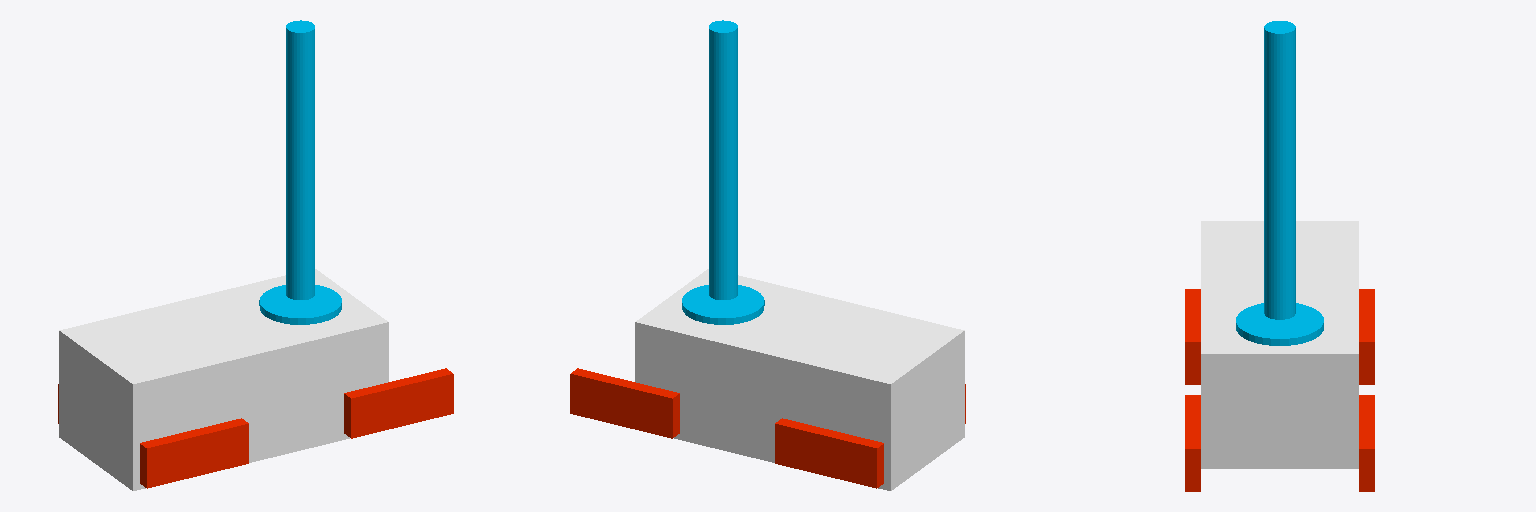
robot.urdf — robot:
<robot name="robot">

    <!-- Materials -->

    <material name="body_colour">
        <color rgba="1 1 1 1"/>
    </material>

    <material name="arm_colour">
        <color rgba="0 0.8 1 1"/>
    </material>

    <material name="flipper_colour">
        <color rgba="1 0.2 0 1"/>
    </material>

    <!-- Base Link -->

    <link name="base_link">
        <visual>
            <geometry>
                <box size="1.0 0.5 0.4"/>
            </geometry>
            <material name="body_colour"/>
        </visual>
        <collision>
            <geometry>
                <box size="1.0 0.5 0.4"/>
            </geometry>
        </collision>
    </link>

    <!-- Flipper Links -->

    <link name="flipper_front_right">
        <visual>
            <origin xyz="0.125 -0.025 0" rpy="0 0 0" />
            <geometry>
                <box size="0.4 0.05 0.15"/>
            </geometry>
            <material name="flipper_colour"/>
        </visual>
        <collision>
            <origin xyz="0.125 -0.025 0" rpy="0 0 0" />
            <geometry>
                <box size="0.4 0.05 0.15"/>
            </geometry>
        </collision>
    </link>

    <link name="flipper_front_left">
        <visual>
            <origin xyz="0.125 0.025 0" rpy="0 0 0" />
            <geometry>
                <box size="0.4 0.05 0.15"/>
            </geometry>
            <material name="flipper_colour"/>
        </visual>
        <collision>
            <origin xyz="0.125 0.025 0" rpy="0 0 0" />
            <geometry>
                <box size="0.4 0.05 0.15"/>
            </geometry>
        </collision>
    </link>

    <link name="flipper_rear_right">
        <visual>
            <origin xyz="0.125 -0.025 0" rpy="0 0 0" />
            <geometry>
                <box size="0.4 0.05 0.15"/>
            </geometry>
            <material name="flipper_colour"/>
        </visual>
        <collision>
            <origin xyz="-0.125 -0.025 0" rpy="0 0 0" />
            <geometry>
                <box size="0.4 0.05 0.15"/>
            </geometry>
        </collision>
    </link>

    <link name="flipper_rear_left">
        <visual>
            <origin xyz="0.125 0.025 0" rpy="0 0 0" />
            <geometry>
                <box size="0.4 0.05 0.15"/>
            </geometry>
            <material name="flipper_colour"/>
        </visual>
        <collision>
            <origin xyz="-0.125 0.025 0" rpy="0 0 0" />
            <geometry>
                <box size="0.4 0.05 0.15"/>
            </geometry>
        </collision>
    </link>

    <!-- Flipper Joints -->

    <joint name="flipper_front_right" type="continuous">
        <axis xyz="0 1 0"/>
        <parent link="base_link"/>
        <child link="flipper_front_right"/>
        <origin xyz="0.4 -0.25 -0.1" rpy="0 0 0"/>
    </joint>

    <joint name="flipper_front_left" type="continuous">
        <axis xyz="0 1 0"/>
        <parent link="base_link"/>
        <child link="flipper_front_left"/>
        <origin xyz="0.4 0.25 -0.1" rpy="0 0 0"/>
    </joint>

    <joint name="flipper_rear_right" type="continuous">
        <axis xyz="0 1 0"/>
        <parent link="base_link"/>
        <child link="flipper_rear_right"/>
        <origin xyz="-0.4 -0.25 -0.1" rpy="0 0 0"/>
    </joint>

    <joint name="flipper_rear_left" type="continuous">
        <axis xyz="0 1 0"/>
        <parent link="base_link"/>
        <child link="flipper_rear_left"/>
        <origin xyz="-0.4 0.25 -0.1" rpy="0 0 0"/>
    </joint>

    <!-- Arm Links -->

    <link name="arm_base">
        <visual>
            <origin xyz="0 0 0"/>
            <geometry>
                <cylinder length="0.05" radius="0.14"/>
            </geometry>
            <material name="arm_colour"/>
        </visual>
        <collision>
            <origin xyz="0 0 0" />
            <geometry>
                <cylinder length="0.05" radius="0.14"/>
            </geometry>
        </collision>
    </link>

    <link name="arm_lower">
        <visual>
            <origin xyz="0 0 0.25"/>
            <geometry>
                <cylinder length="0.5" radius="0.05"/>
            </geometry>
            <material name="arm_colour"/>
        </visual>
        <collision>
            <origin xyz="0 0 0.25"/>
            <geometry>
                <cylinder length="0.5" radius="0.05"/>
            </geometry>
        </collision>
    </link>

    <link name="arm_upper">
        <visual>
            <origin xyz="0 0 0.25" rpy="0 0 0"/>
            <geometry>
                <cylinder length="0.5" radius="0.05"/>
            </geometry>
            <material name="arm_colour"/>
        </visual>
        <collision>
            <origin xyz="0 0 0.25" rpy="0 0 0"/>
            <geometry>
                <cylinder length="0.5" radius="0.05"/>
            </geometry>
        </collision>
    </link>


    <!-- Arm Joints -->

    <joint name="arm_pan" type="continuous">
        <axis xyz="0 0 1"/>
        <parent link="base_link"/>
        <child link="arm_base"/>
        <origin xyz="0.3 0 0.2" rpy="0 0 0"/>
    </joint>

    <joint name="arm_lower_joint" type="revolute">
        <axis xyz="0 1 0"/>
        <limit effort="1000.0" lower="-1.5" upper="1.5" velocity="1.0"/>
        <parent link="arm_base"/>
        <child link="arm_lower"/>
        <origin xyz="0 0 0.05"/>
    </joint>

    <joint name="arm_upper_joint" type="revolute">
        <axis xyz="0 1 0"/>
        <limit effort="1000.0" lower="-1.5" upper="1.5" velocity="1.0"/>
        <parent link="arm_lower"/>
        <child link="arm_upper"/>
        <origin xyz="0 0 0.5"/>
    </joint>

</robot>

--- Facts derived from the render (not from the file) ---
3 views of the same robot in one strip: view 1: azimuth 30°, elevation 25°; view 2: azimuth 150°, elevation 25°; view 3: azimuth 270°, elevation 25° (orthographic).
Robot: robot — 8 links, 7 joints (2 revolute, 5 continuous); root link base_link; default pose: all joints at 0.
Links seen in each view (by area): view 1: base_link, flipper_front_right, flipper_rear_right, arm_upper, arm_lower, arm_base; view 2: base_link, flipper_front_left, flipper_rear_left, arm_upper, arm_lower, arm_base; view 3: base_link, arm_upper, arm_lower, arm_base, flipper_front_right, flipper_front_left, flipper_rear_right, flipper_rear_left.
Boxes of the visible links, x1,y1,x2,y2 form: base_link: [59, 269, 388, 490]; flipper_front_right: [344, 368, 453, 438]; flipper_rear_right: [140, 418, 248, 488]; arm_upper: [286, 20, 314, 166]; arm_lower: [286, 162, 314, 299]; arm_base: [259, 285, 341, 324]; base_link: [635, 269, 964, 490]; flipper_front_left: [570, 368, 679, 438]; flipper_rear_left: [775, 418, 883, 488]; arm_upper: [709, 20, 737, 166]; arm_lower: [709, 162, 737, 299]; arm_base: [682, 285, 764, 324]; base_link: [1201, 221, 1358, 468]; arm_upper: [1264, 21, 1295, 176]; arm_lower: [1264, 171, 1295, 319]; arm_base: [1236, 303, 1323, 345]; flipper_front_right: [1185, 395, 1200, 491]; flipper_front_left: [1359, 395, 1374, 491]; flipper_rear_right: [1185, 289, 1200, 384]; flipper_rear_left: [1359, 289, 1374, 384].
Bounding box of the posed robot: 1.23 × 0.6 × 1.45 m (x, y, z).
Geometry: primitives only (box / cylinder / sphere), no mesh files.